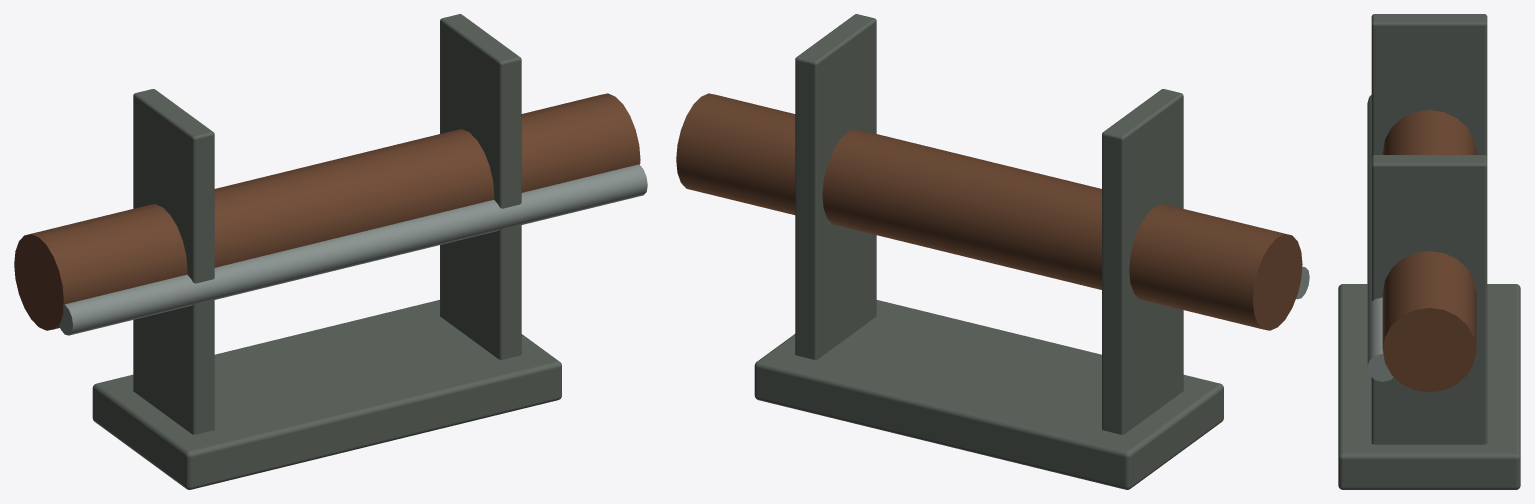
Rendered from wall_l01.glb.
3 renders of one model, left to right at view 1: azimuth 30°, elevation 25°; view 2: azimuth 150°, elevation 25°; view 3: azimuth 270°, elevation 25°, orthographic. The views are drawn at different scales.
Parts seen in each view (by area): view 1: reclaimed_timber (×3), continuous_footing, end_post (×2), steel_binding (×3); view 2: reclaimed_timber (×3), continuous_footing, end_post (×2); view 3: end_post (×2), continuous_footing, reclaimed_timber (×3), steel_binding (×2).
Part boxes in pixels (box(x1,y1,x2,y2)): reclaimed_timber (×3): box(14, 93, 640, 330); continuous_footing: box(92, 300, 561, 489); end_post (×2): box(133, 14, 521, 434); steel_binding (×3): box(59, 164, 647, 335); reclaimed_timber (×3): box(676, 93, 1302, 330); continuous_footing: box(754, 300, 1223, 489); end_post (×2): box(795, 14, 1183, 434); end_post (×2): box(1371, 14, 1487, 444); continuous_footing: box(1338, 284, 1520, 489); reclaimed_timber (×3): box(1382, 110, 1476, 392); steel_binding (×2): box(1367, 95, 1393, 381).
Size of the model in its own units: 2.82 by 1.57 by 0.82.
